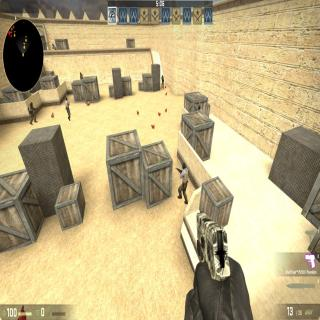CT-Body: (28, 100, 36, 124), (161, 74, 164, 89), (79, 72, 83, 80)
CT-Head: (30, 101, 33, 106), (80, 72, 81, 74)
T-Body: (177, 161, 189, 202), (64, 97, 72, 121), (51, 43, 56, 49)
T-Head: (181, 162, 186, 170), (66, 97, 68, 101)
